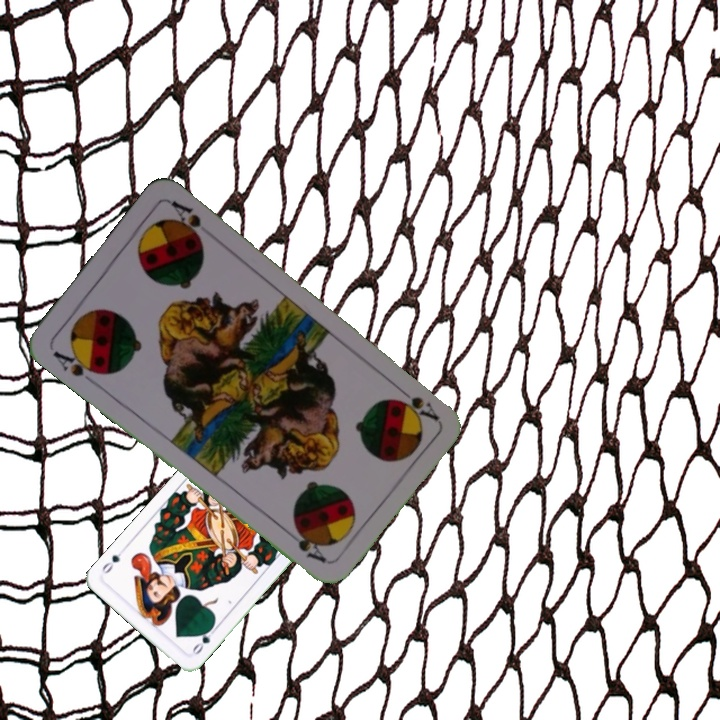GO: (186, 623, 219, 657)
SA: (391, 380, 441, 423), (49, 345, 105, 380)
